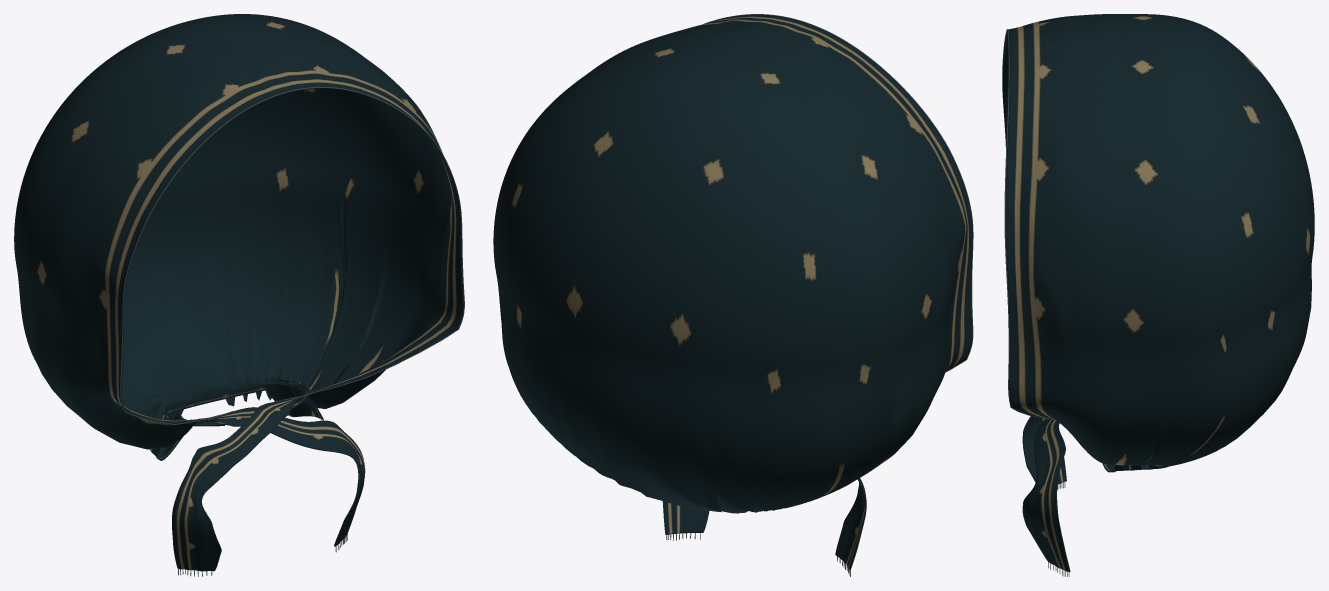
The model's file is Feminine-bob-open-pashmina250-headgear.glb.
The picture shows the model from 3 angles, left to right: view 1: azimuth 30°, elevation 25°; view 2: azimuth 150°, elevation 25°; view 3: azimuth 270°, elevation 25°; orthographic projection. The views are drawn at different scales.
Parts seen in each view (by area): view 1: 226 headgear / Headwear / continuous woven pashmina239, 226 headgear / Headwear / face edge239; view 2: 226 headgear / Headwear / continuous woven pashmina239, 226 headgear / Headwear / face edge239; view 3: 226 headgear / Headwear / continuous woven pashmina239, 226 headgear / Headwear / face edge239.
Part boxes in pixels (left/top/right/bottom): 226 headgear / Headwear / continuous woven pashmina239: left=14, top=14, right=463, bottom=571; 226 headgear / Headwear / face edge239: left=120, top=87, right=464, bottom=424; 226 headgear / Headwear / continuous woven pashmina239: left=493, top=14, right=972, bottom=570; 226 headgear / Headwear / face edge239: left=703, top=14, right=973, bottom=372; 226 headgear / Headwear / continuous woven pashmina239: left=1002, top=14, right=1314, bottom=572; 226 headgear / Headwear / face edge239: left=1002, top=29, right=1049, bottom=419.
Bounding box in the file's own units: 1.1 × 1.39 × 0.7846.
Materials: 3 (1 with a texture image).
